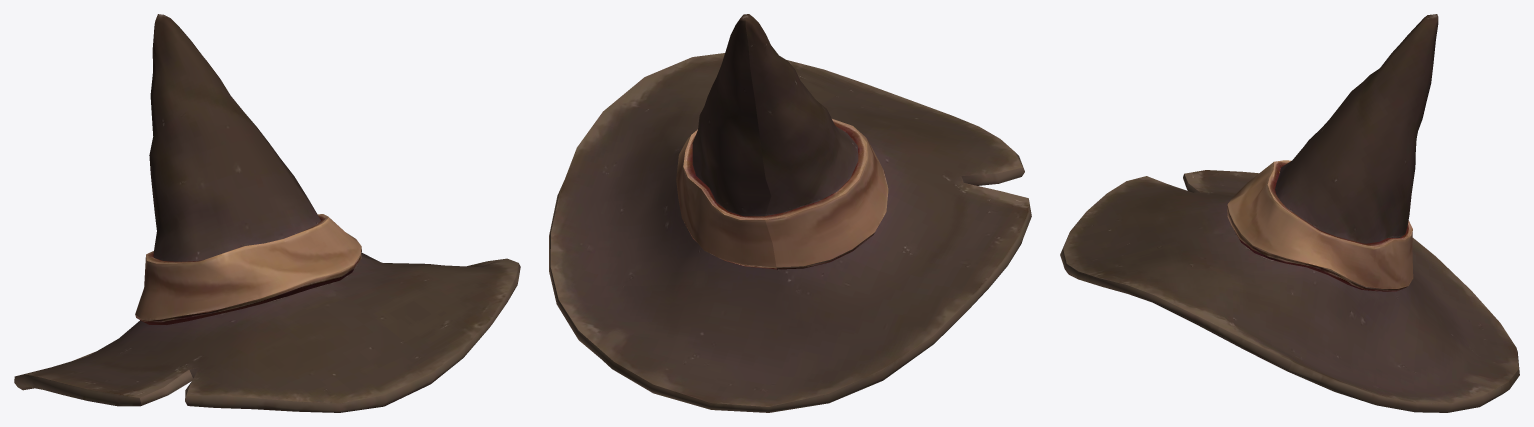
The model's file is hat-transformed.glb.
The picture shows the model from 3 angles, left to right: view 1: azimuth 30°, elevation 25°; view 2: azimuth 150°, elevation 25°; view 3: azimuth 270°, elevation 25°; orthographic projection. The views are drawn at different scales.
Parts seen in each view (by area): view 1: Object_2; view 2: Object_2; view 3: Object_2.
Part boxes in pixels (x1,y1,x2,y2): Object_2: [14, 14, 520, 412]; Object_2: [549, 14, 1031, 412]; Object_2: [1060, 14, 1519, 412].
Bounding box in the file's own units: 2.19 × 1.77 × 2.13.
1 material, 1 textured.
